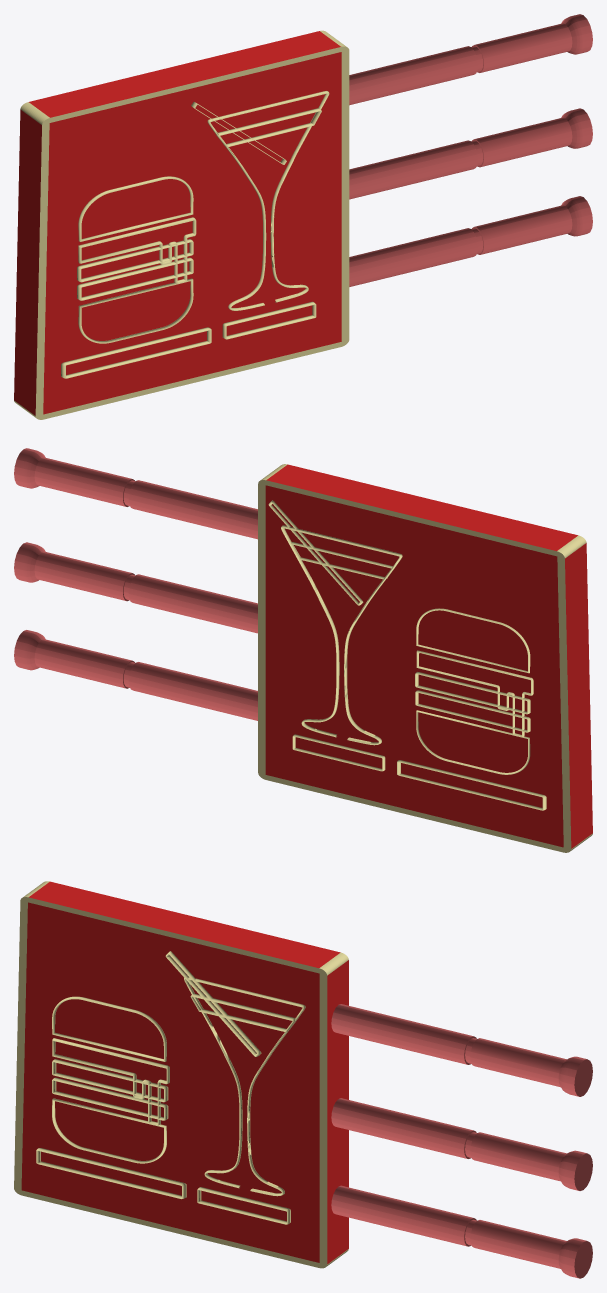
The model's file is FoodCourtSign_FBX.fbx.
3 renders of one model, top to bottom at view 1: azimuth 30°, elevation 25°; view 2: azimuth 150°, elevation 25°; view 3: azimuth 330°, elevation 25°, orthographic.
Visible parts, largest first — view 1: FoodSign; view 2: FoodSign; view 3: FoodSign.
Boxes of the visible parts, x1,y1,x2,y2 form: FoodSign: (14, 14, 592, 419); FoodSign: (14, 448, 592, 852); FoodSign: (14, 881, 592, 1278).
Bounding box in the file's own units: 221 × 113 × 19.2.
